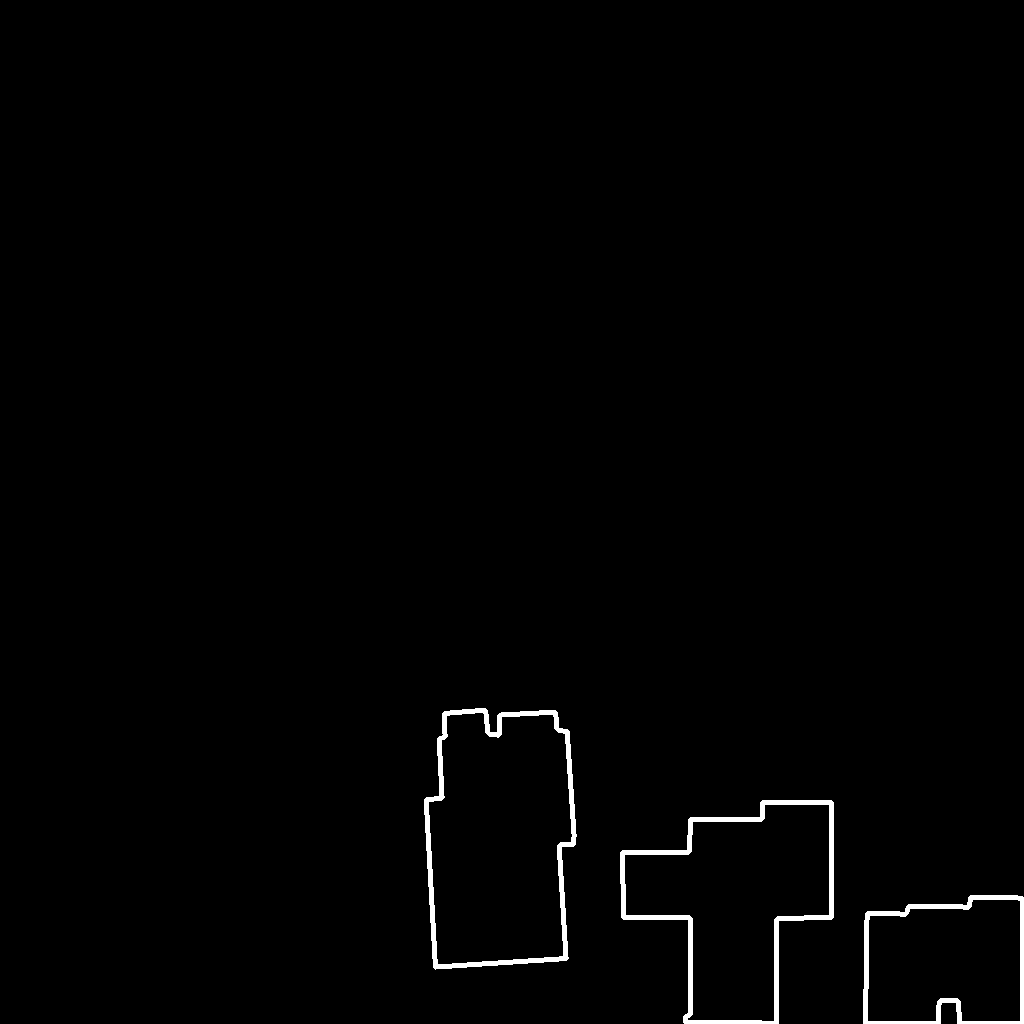building: (622, 802, 832, 1024), (426, 710, 575, 968), (865, 897, 1024, 1024)
